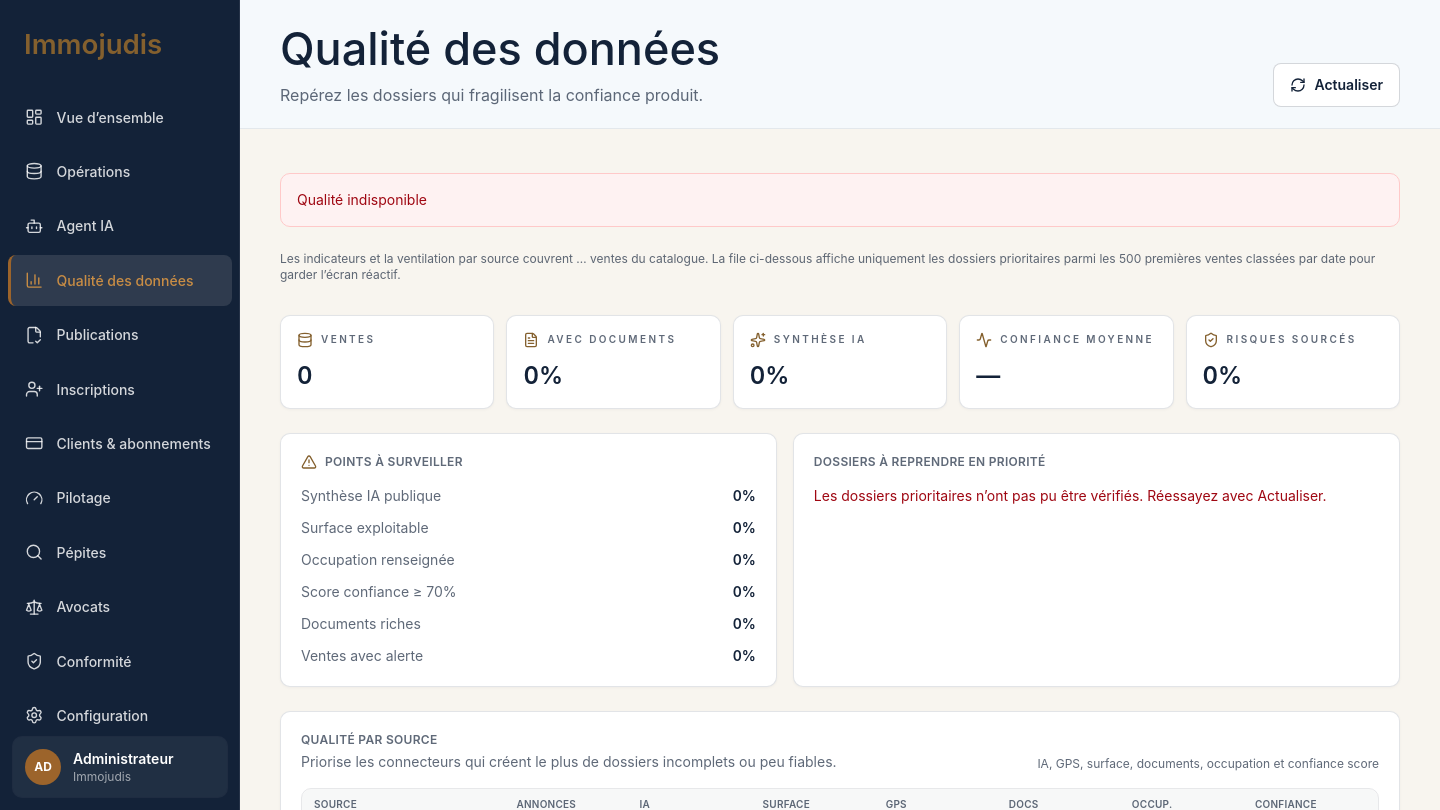
it: AdminQualityPage error recovery › reports failed priority and valuation diagnostics instead of healthy empty states
Expected: the text "Les dossiers prioritaires n’ont pas pu être vérifiés" is shown, [814,487,1327,504]
Expected: the text "Aucun dossier faible dans l'échantillon chargé." is not shown
Click the button "Actualiser" at coordinates (1336, 85), box [1273,63,1400,107]
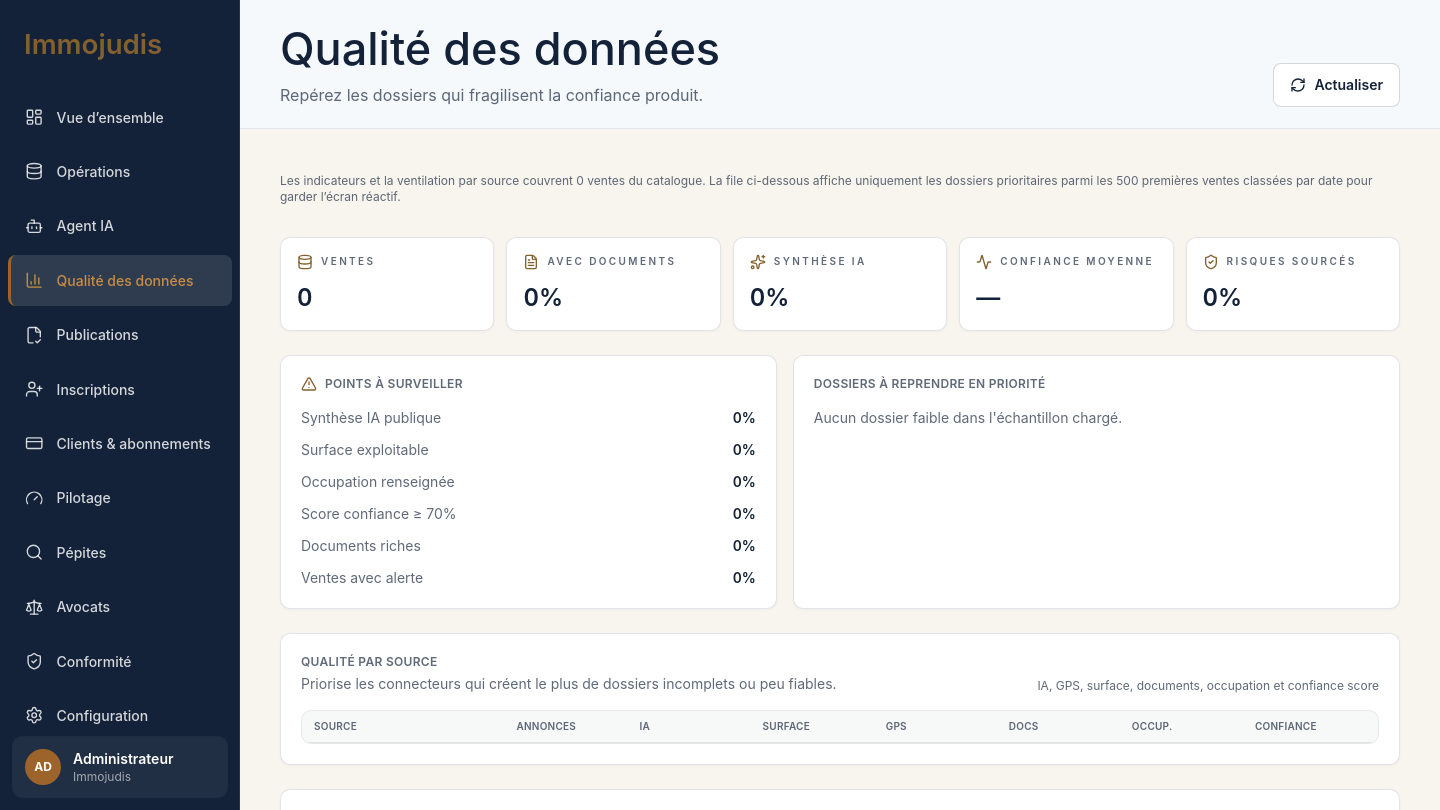
Expected: the text "Aucun dossier faible dans l'échantillon chargé." is shown, [814,409,1122,426]
